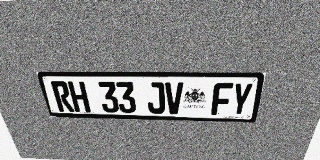3: (98, 82, 119, 113), (116, 82, 136, 113)
F: (211, 83, 233, 115)
H: (67, 81, 91, 112)
J: (146, 82, 165, 114)
R: (50, 81, 75, 112)
V: (165, 82, 183, 114)
Y: (229, 83, 254, 116)
